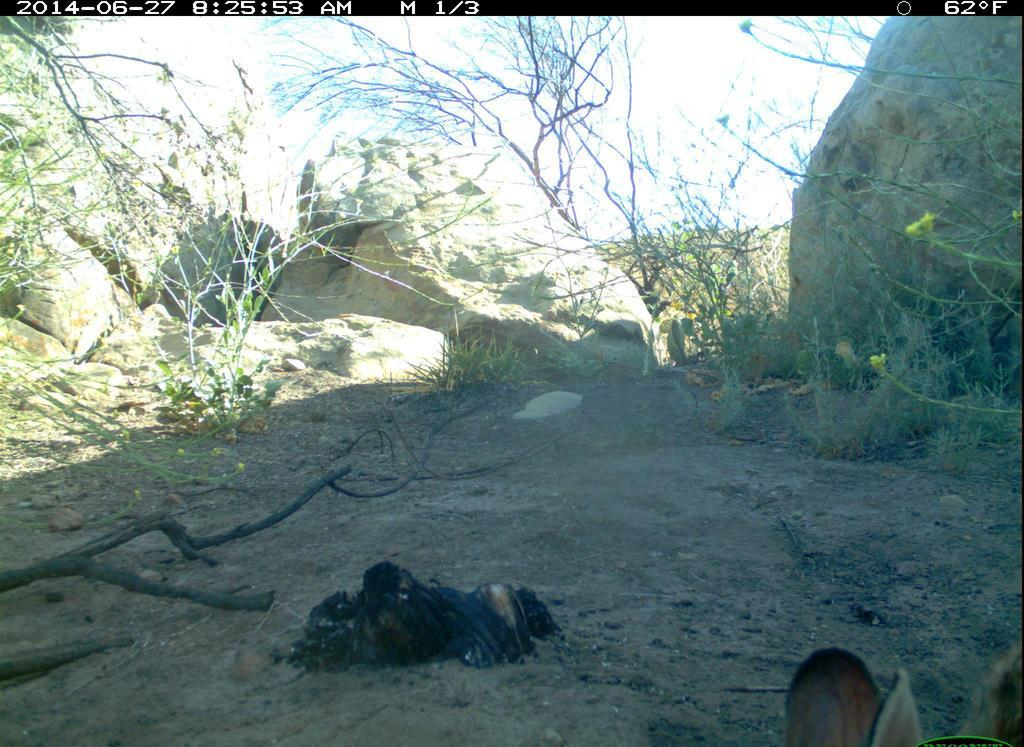rabbit: (767, 622, 1021, 745)
